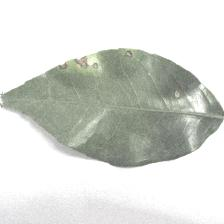canker: (46, 47, 107, 78)
